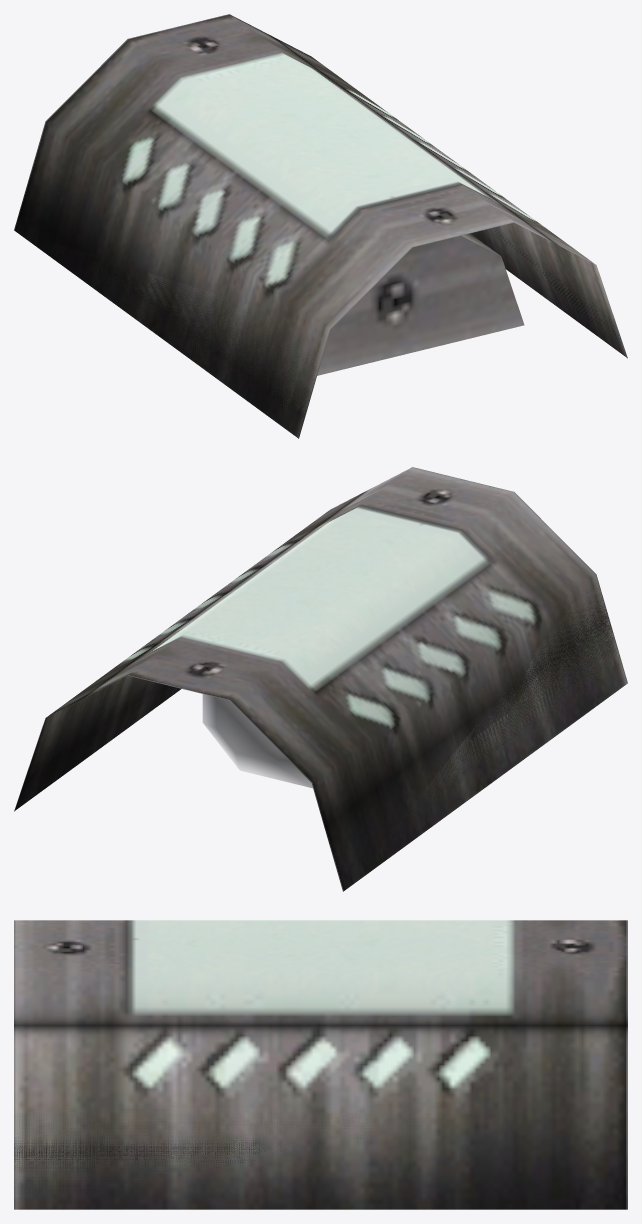
The model's file is wall_sconce_var4.fbx.
The picture shows the model from 3 angles, top to bottom: view 1: azimuth 30°, elevation 25°; view 2: azimuth 150°, elevation 25°; view 3: azimuth 270°, elevation 25°; orthographic projection. The views are drawn at different scales.
Parts seen in each view (by area): view 1: mesh_1; view 2: mesh_1, mesh_0; view 3: mesh_1.
Boxes of the visible parts, x1=… form: mesh_1: x1=14, y1=14, x2=627, y2=438; mesh_1: x1=14, y1=467, x2=627, y2=891; mesh_0: x1=202, y1=694, x2=312, y2=788; mesh_1: x1=14, y1=920, x2=627, y2=1209.
Size of the model in its own units: 21.25 by 10.1 by 31.88.
Materials: 2 (2 with a texture image).
